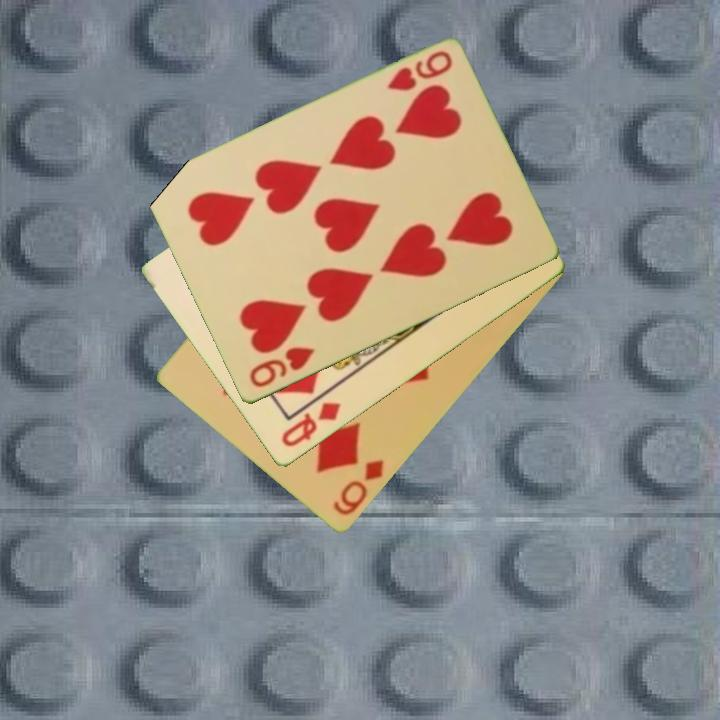6d: (329, 456, 387, 520)
9h: (245, 343, 318, 391), (384, 47, 455, 95)
Qd: (277, 399, 344, 451)
